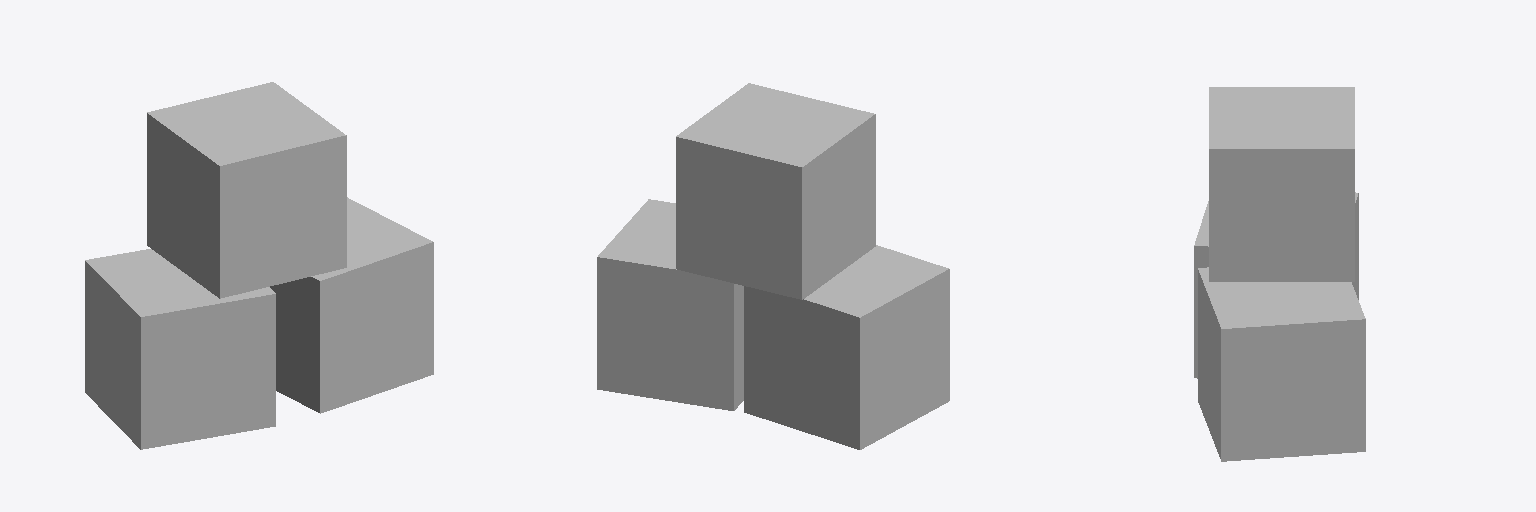
The model's file is Gifts.obj.
The picture shows the model from 3 angles: view 1: azimuth 30°, elevation 25°; view 2: azimuth 150°, elevation 25°; view 3: azimuth 270°, elevation 25°; orthographic projection.
Parts seen in each view (by area): view 1: Cube.003_Material.003, Cube_Material, Cube.001_Material.002, Cube.003_Material.001, Cube_Material.001, Cube.001_Material.001; view 2: Cube_Material, Cube.003_Material.003, Cube.001_Material.002, Cube.003_Material.001, Cube.001_Material.001, Cube_Material.001; view 3: Cube.001_Material.002, Cube.003_Material.003, Cube.001_Material.001, Cube.003_Material.001, Cube_Material.
Boxes of the visible parts, x1,y1,x2,y2 form: Cube.003_Material.003: [147, 82, 346, 298]; Cube_Material: [85, 251, 275, 449]; Cube.001_Material.002: [283, 197, 433, 413]; Cube.003_Material.001: [176, 94, 316, 285]; Cube_Material.001: [108, 249, 221, 439]; Cube.001_Material.001: [270, 213, 395, 397]; Cube_Material: [744, 245, 949, 449]; Cube.003_Material.003: [676, 83, 875, 299]; Cube.001_Material.002: [597, 199, 743, 410]; Cube.003_Material.001: [706, 96, 845, 287]; Cube.001_Material.001: [618, 222, 678, 402]; Cube_Material.001: [804, 246, 913, 429]; Cube.001_Material.002: [1198, 267, 1365, 461]; Cube.003_Material.003: [1209, 87, 1354, 281]; Cube.001_Material.001: [1207, 282, 1355, 457]; Cube.003_Material.001: [1209, 87, 1354, 281]; Cube_Material: [1194, 192, 1358, 378].
Size of the model in its own units: 4.68 by 4.03 by 2.35.